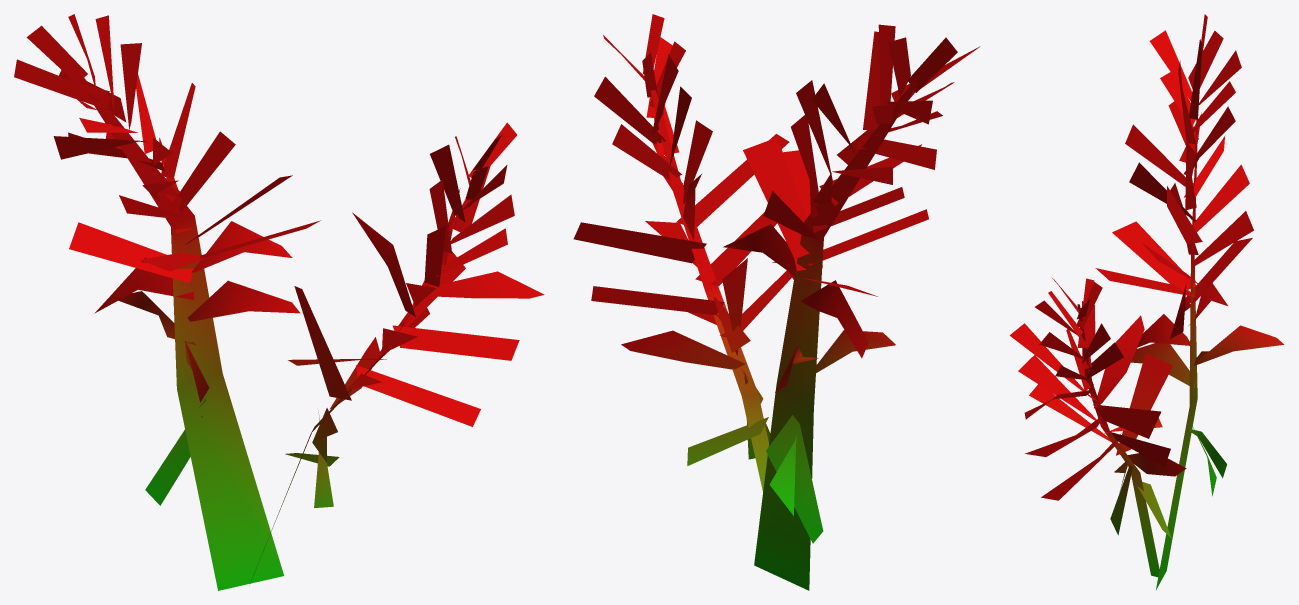
Rendered from Var3_LOD2.fbx.
3 views of the same model, side by side, from view 1: azimuth 30°, elevation 25°; view 2: azimuth 150°, elevation 25°; view 3: azimuth 270°, elevation 25° (orthographic). The views are drawn at different scales.
Visible parts, largest first — view 1: _9096_Var3_LOD2; view 2: _9096_Var3_LOD2; view 3: _9096_Var3_LOD2.
Boxes of the visible parts, <box> form: _9096_Var3_LOD2: <box>14,14,544,590</box>; _9096_Var3_LOD2: <box>573,14,980,590</box>; _9096_Var3_LOD2: <box>1009,14,1284,589</box>.
Size of the model in its own units: 23.29 by 31.41 by 15.87.
